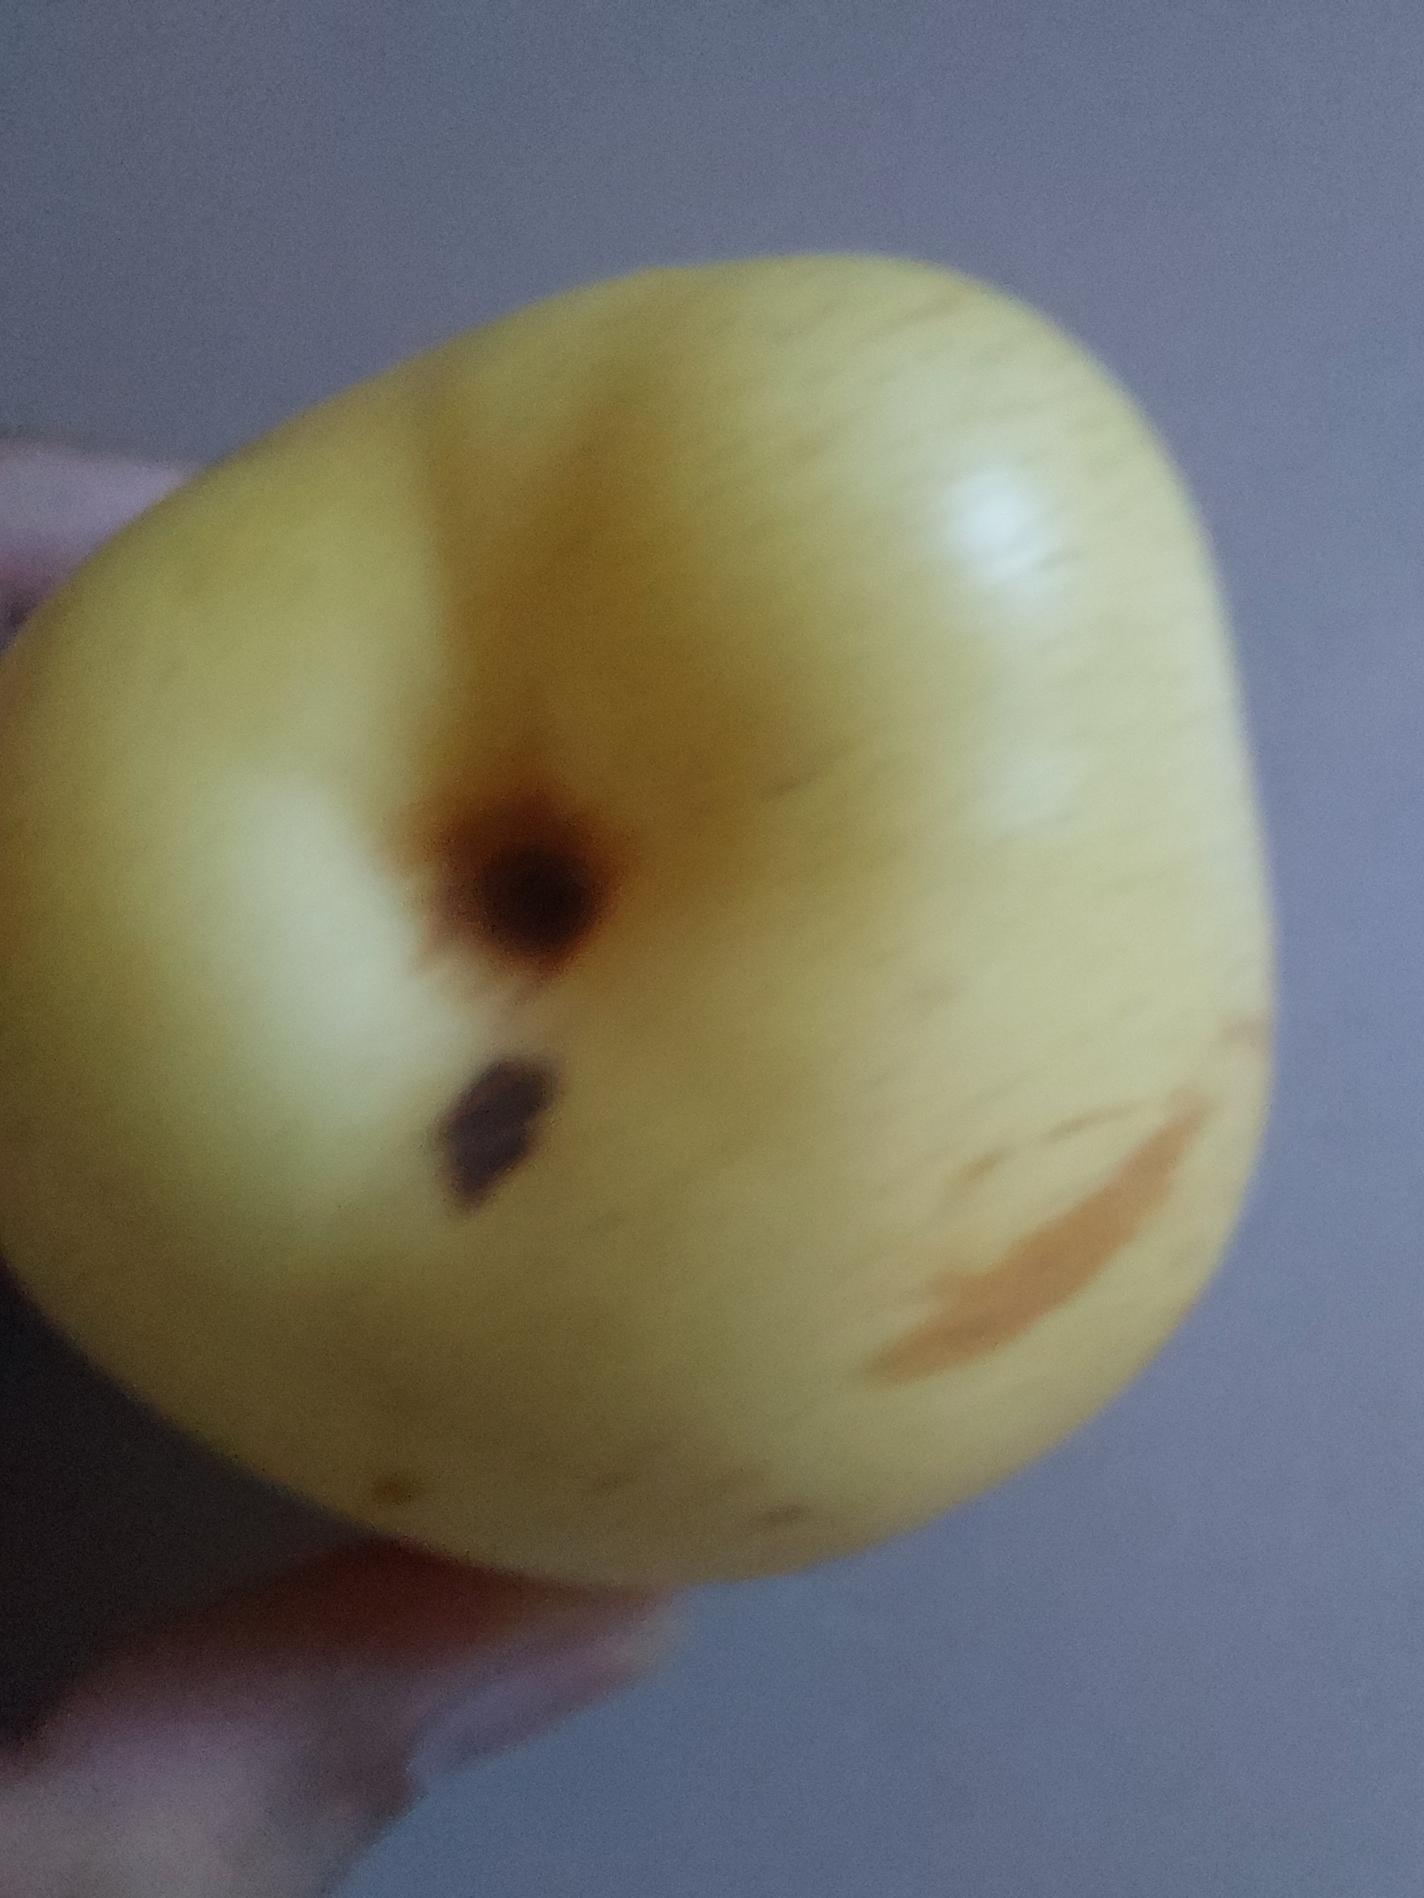Good Pear: (0, 251, 1286, 1602)
